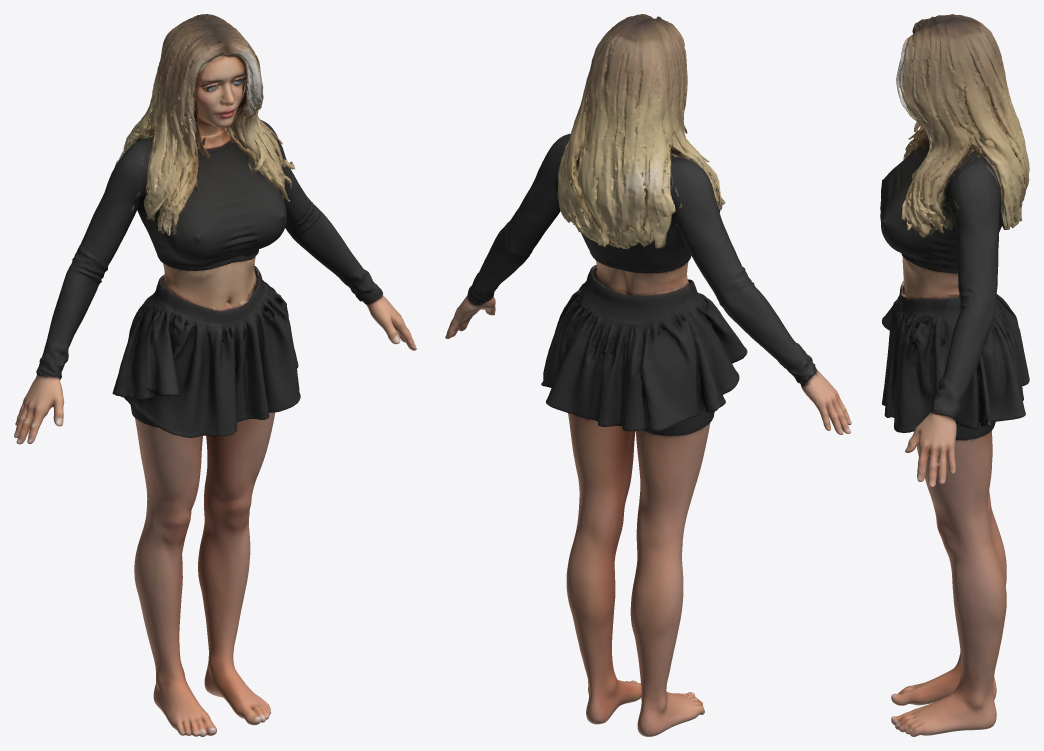
File: melisa.glb
The picture shows the model from 3 angles, left to right: view 1: azimuth 30°, elevation 25°; view 2: azimuth 150°, elevation 25°; view 3: azimuth 270°, elevation 25°; orthographic projection.
Parts seen in each view (by area): view 1: Object_4, Object_5, Object_6, Object_10, Object_7, Object_9; view 2: Object_4, Object_7, Object_8, Object_9, Object_5, Object_10, Object_6; view 3: Object_4, Object_7, Object_6, Object_10, Object_5, Object_8, Object_9.
Boxes of the visible parts, left/top/right/bottom form: Object_4: left=32, top=14, right=404, bottom=736; Object_5: left=37, top=16, right=409, bottom=736; Object_6: left=20, top=18, right=416, bottom=733; Object_10: left=14, top=14, right=405, bottom=723; Object_7: left=16, top=22, right=415, bottom=684; Object_9: left=90, top=37, right=287, bottom=713; Object_4: left=452, top=14, right=822, bottom=736; Object_7: left=457, top=18, right=850, bottom=736; Object_8: left=512, top=59, right=728, bottom=688; Object_9: left=491, top=36, right=759, bottom=734; Object_5: left=545, top=20, right=836, bottom=704; Object_10: left=445, top=16, right=848, bottom=730; Object_6: left=450, top=14, right=851, bottom=713; Object_4: left=880, top=20, right=1029, bottom=736; Object_7: left=924, top=14, right=1023, bottom=726; Object_6: left=900, top=17, right=956, bottom=734; Object_10: left=928, top=15, right=980, bottom=730; Object_5: left=880, top=15, right=1025, bottom=731; Object_8: left=992, top=42, right=1029, bottom=629; Object_9: left=946, top=24, right=1029, bottom=688.
Bounding box in the file's own units: 1.15 × 1.9 × 0.3695.
1 material, 1 textured.
